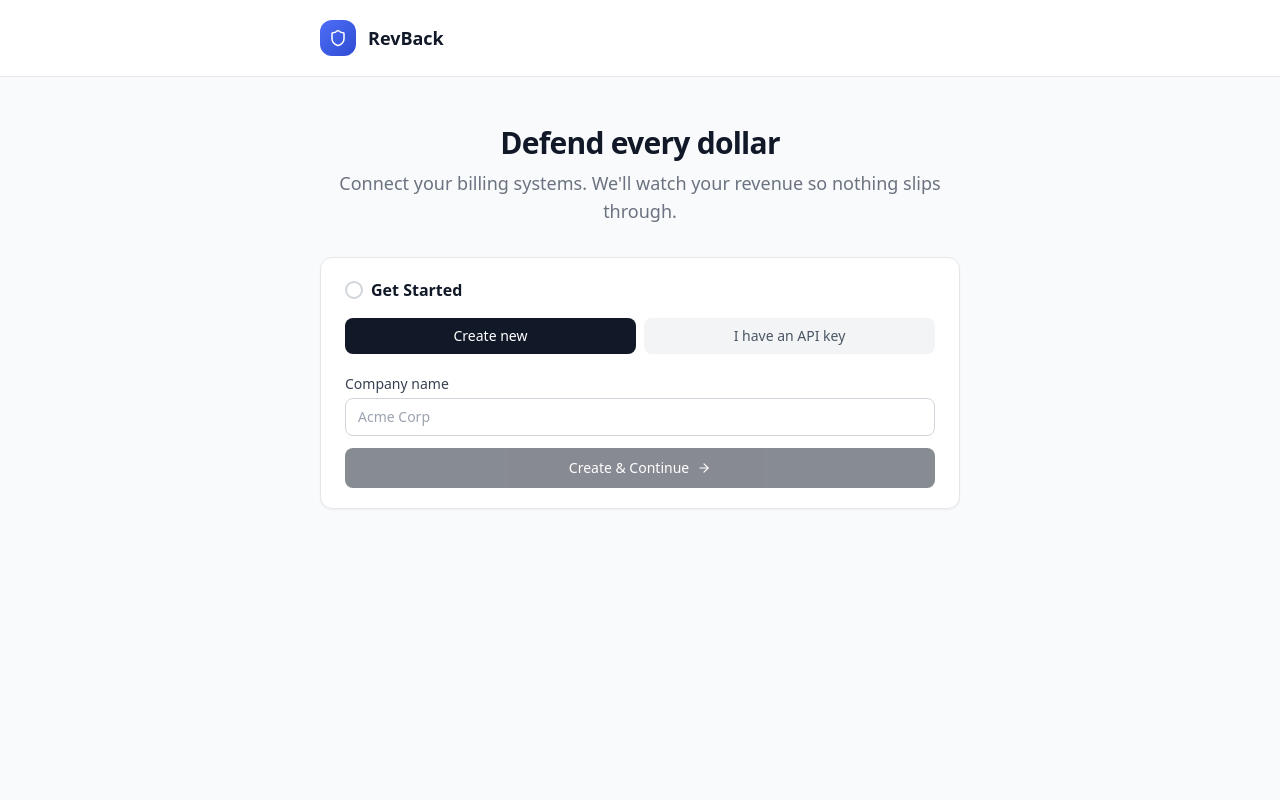
Test: OnboardingPage › Section 1: Existing API key flow › shows error for invalid key
Click the button "I have an API key" at (790, 336), box [644,318,935,354]
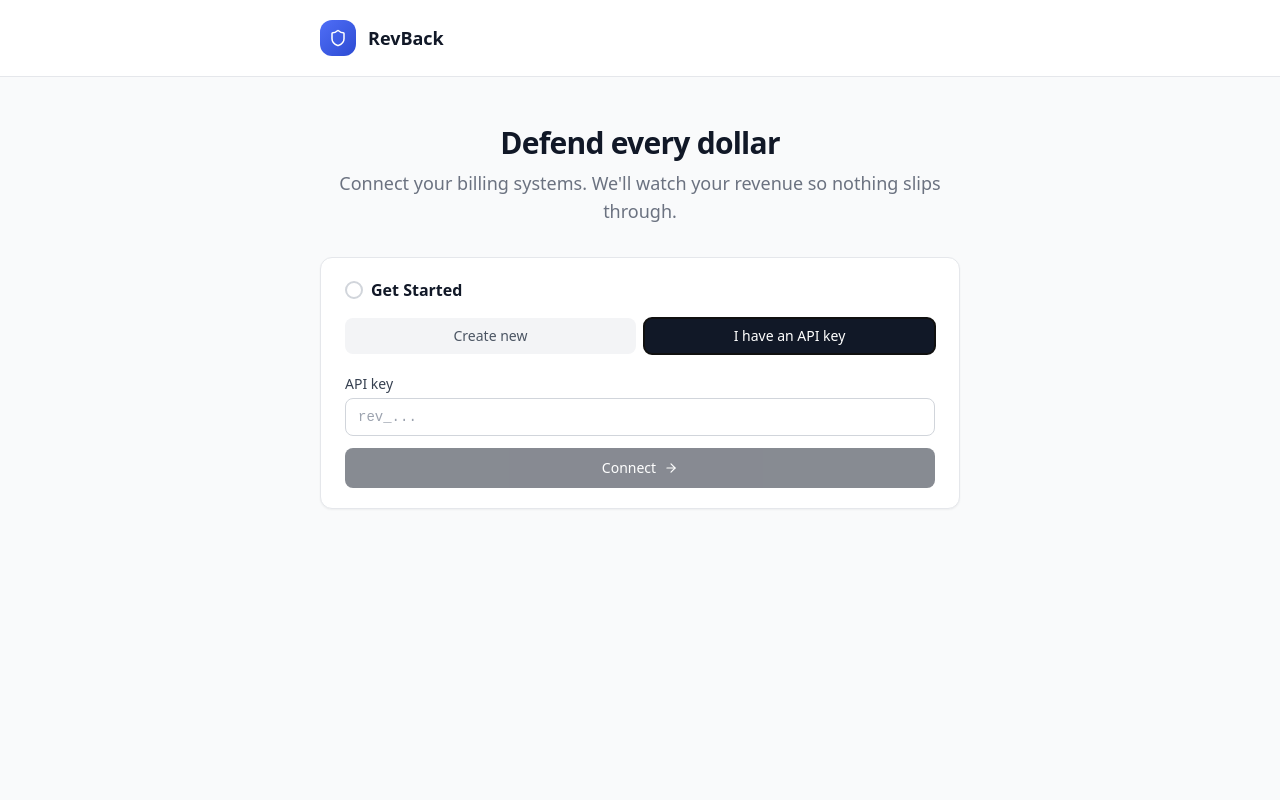
Type "rev_badkey" into the password field with placeholder "rev_..." at (640, 417), box [345,398,935,436]
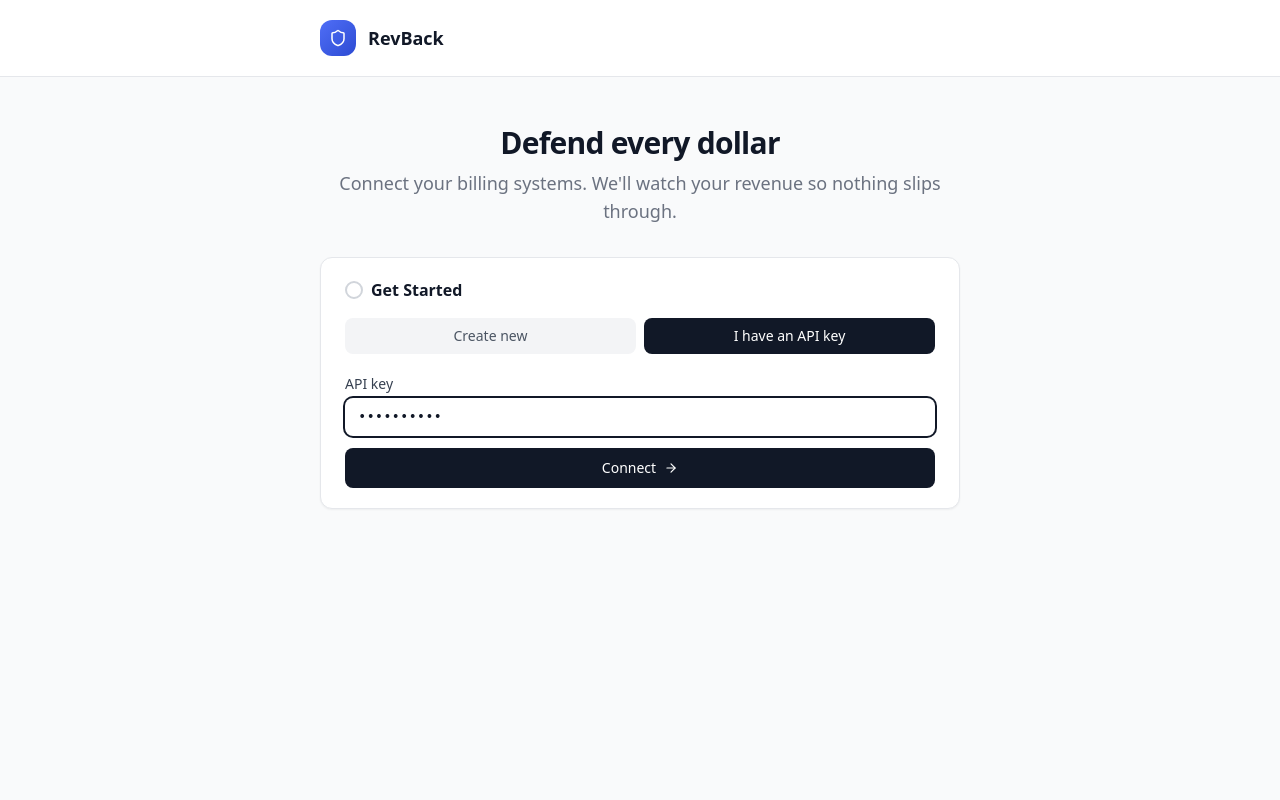
Click the button "Connect" at (640, 468), box [345,448,935,488]
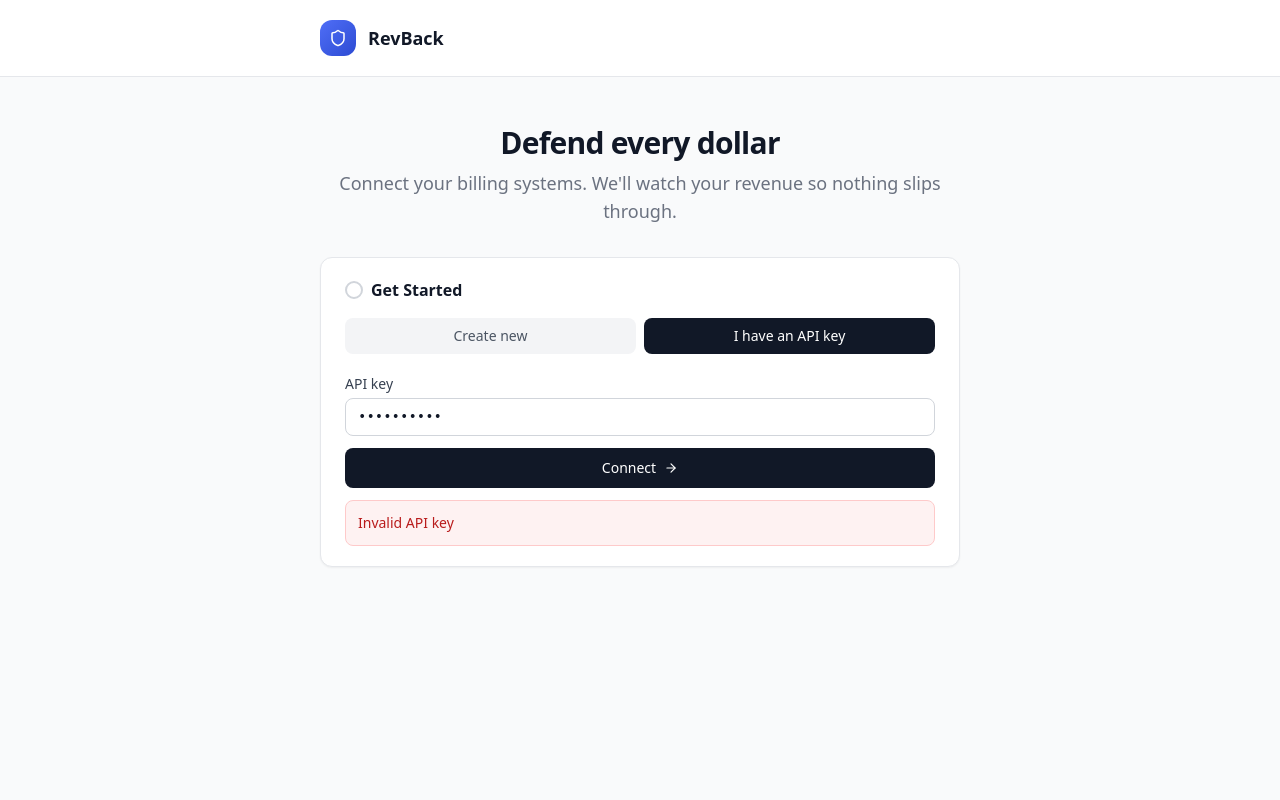
Result: the text "Invalid API key" is shown at [358,513,454,532]
